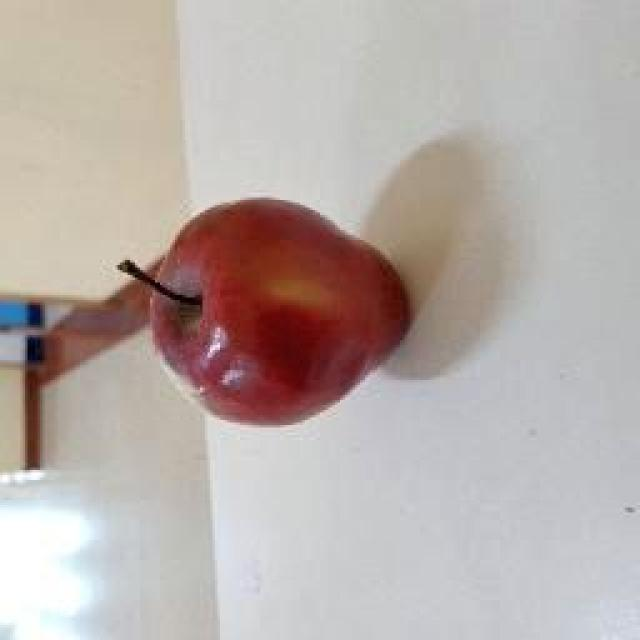Good_Apple: (72, 198, 412, 430)
